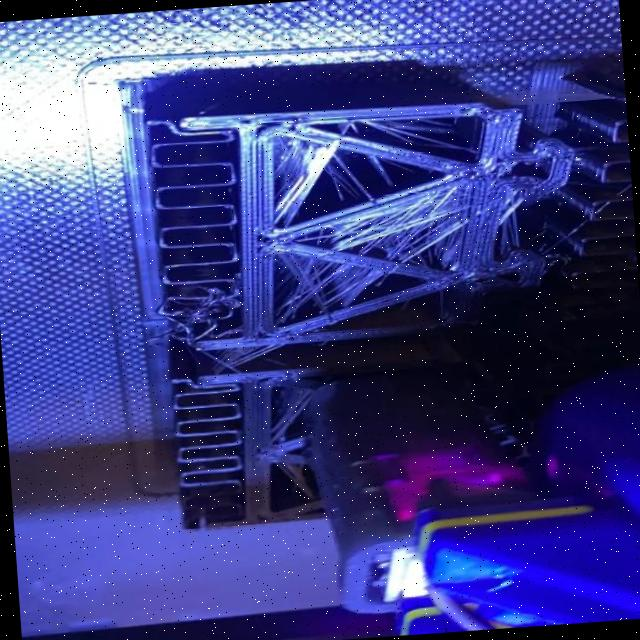stringing: (276, 137, 349, 226), (365, 119, 472, 154), (339, 210, 426, 248), (311, 149, 376, 199), (286, 262, 338, 310), (386, 214, 440, 258), (322, 269, 366, 302), (418, 189, 468, 215), (430, 216, 462, 242)
